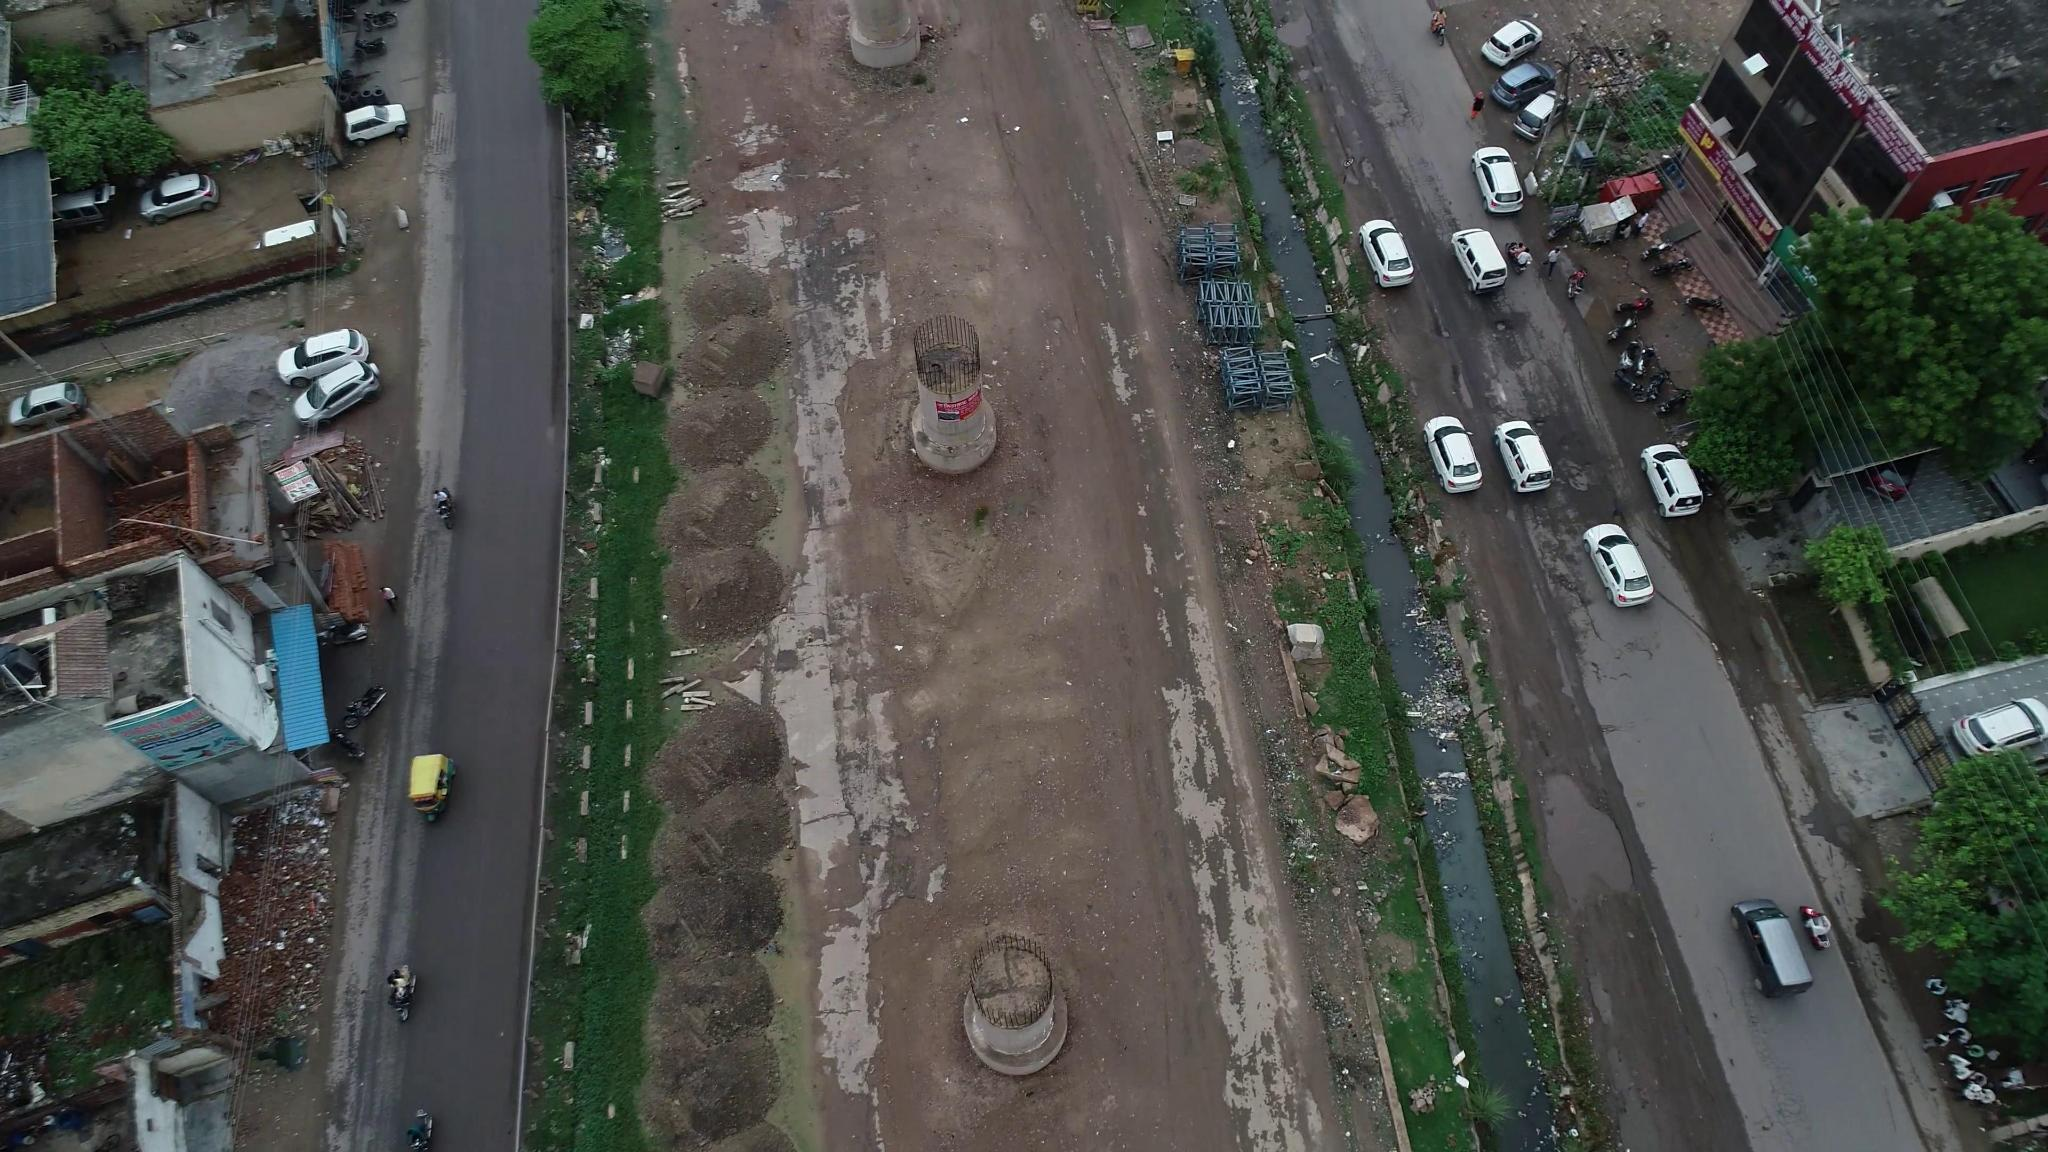Potholes: (1568, 454, 1633, 526), (1509, 402, 1559, 433), (1487, 314, 1526, 338), (1433, 315, 1460, 343)
